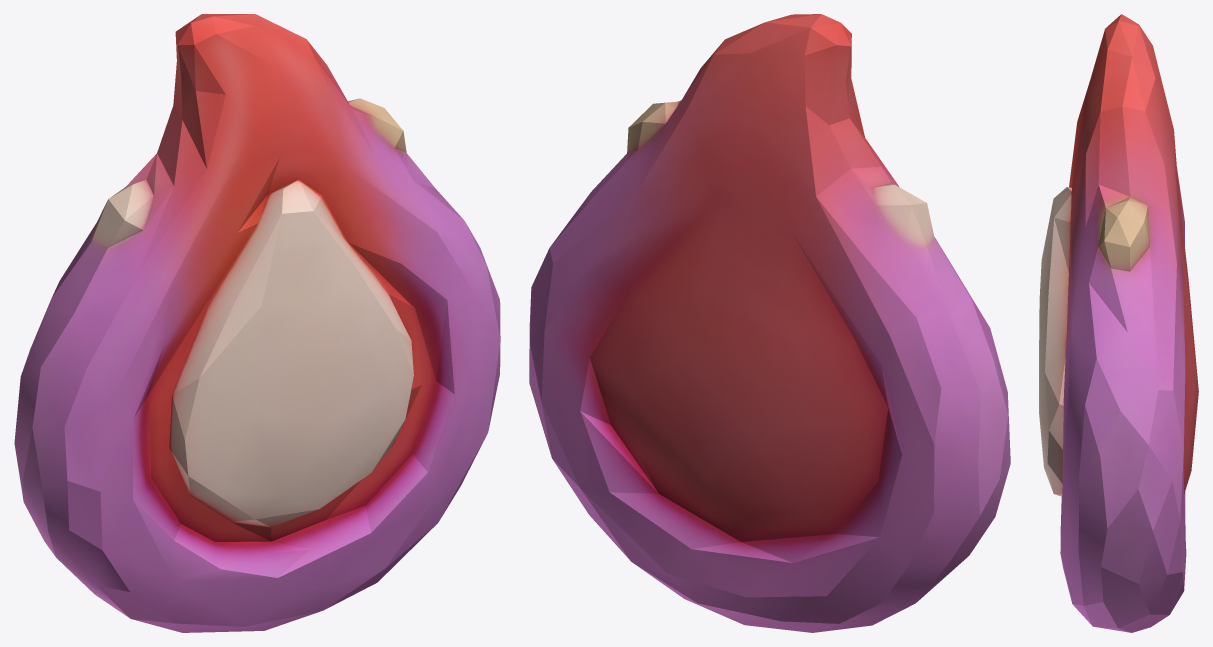
3 views of the same model, side by side, from view 1: azimuth 30°, elevation 25°; view 2: azimuth 150°, elevation 25°; view 3: azimuth 270°, elevation 25° (orthographic). The views are drawn at different scales.
Parts seen in each view (by area): view 1: model; view 2: model; view 3: model.
Boxes of the visible parts, x1,y1,x2,y2 form: model: (14,14,500,632); model: (529,14,1010,632); model: (1039,14,1198,632).
Size of the model in its own units: 149 by 188 by 48.24.
1 material, 1 textured.
